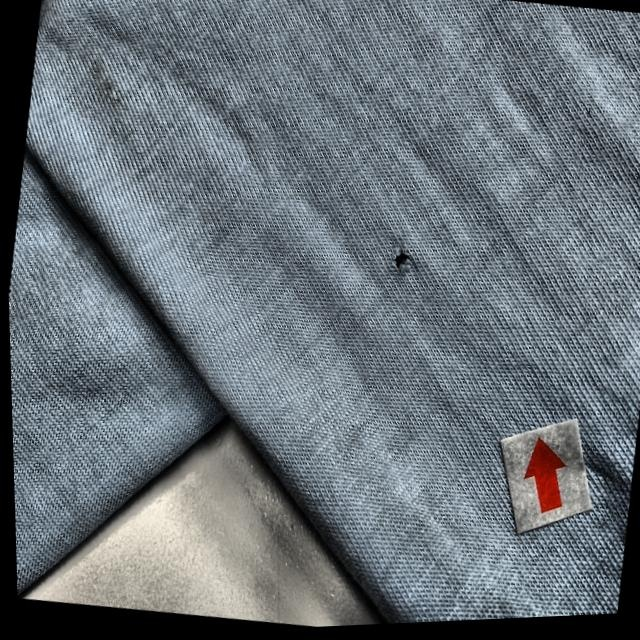Hole: (379, 232, 424, 290)
